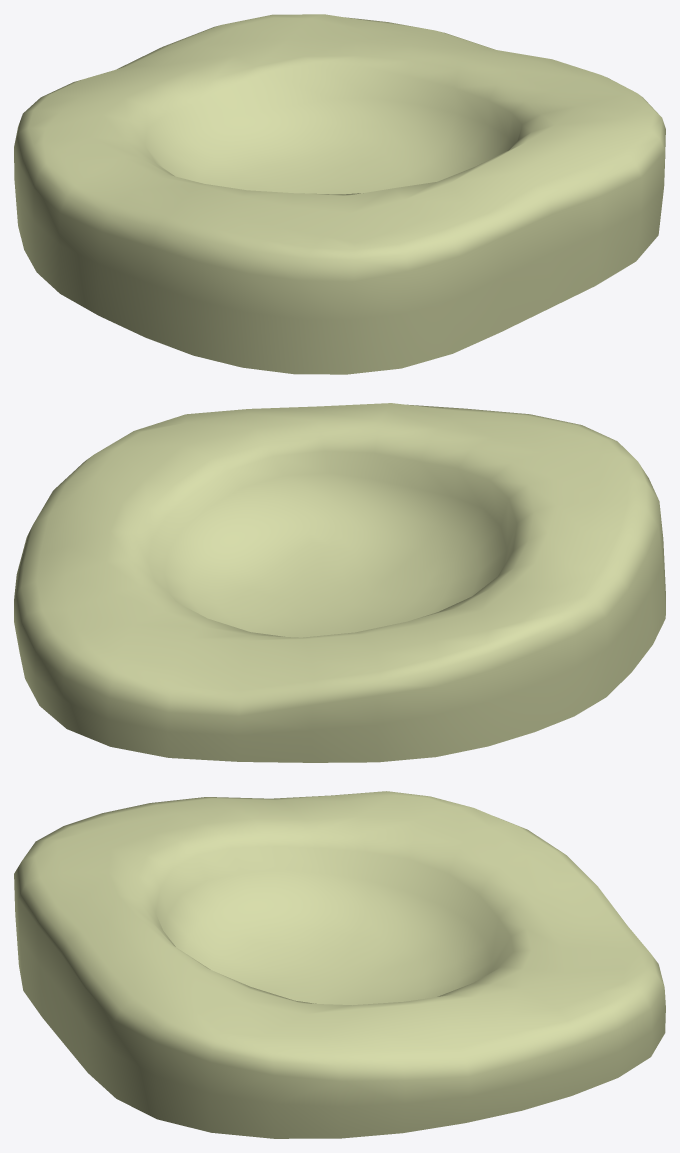
The model's file is Mode_Bowl.fbx.
3 views of the same model, one above another, from view 1: azimuth 30°, elevation 25°; view 2: azimuth 150°, elevation 25°; view 3: azimuth 270°, elevation 25° (orthographic). The views are drawn at different scales.
Visible parts, largest first — view 1: bol_skate; view 2: bol_skate; view 3: bol_skate.
Boxes of the visible parts, left/top/right/bottom form: bol_skate: left=14, top=14, right=665, bottom=374; bol_skate: left=14, top=403, right=665, bottom=762; bol_skate: left=14, top=791, right=665, bottom=1138.
Size of the model in its own units: 878 by 188 by 928.
